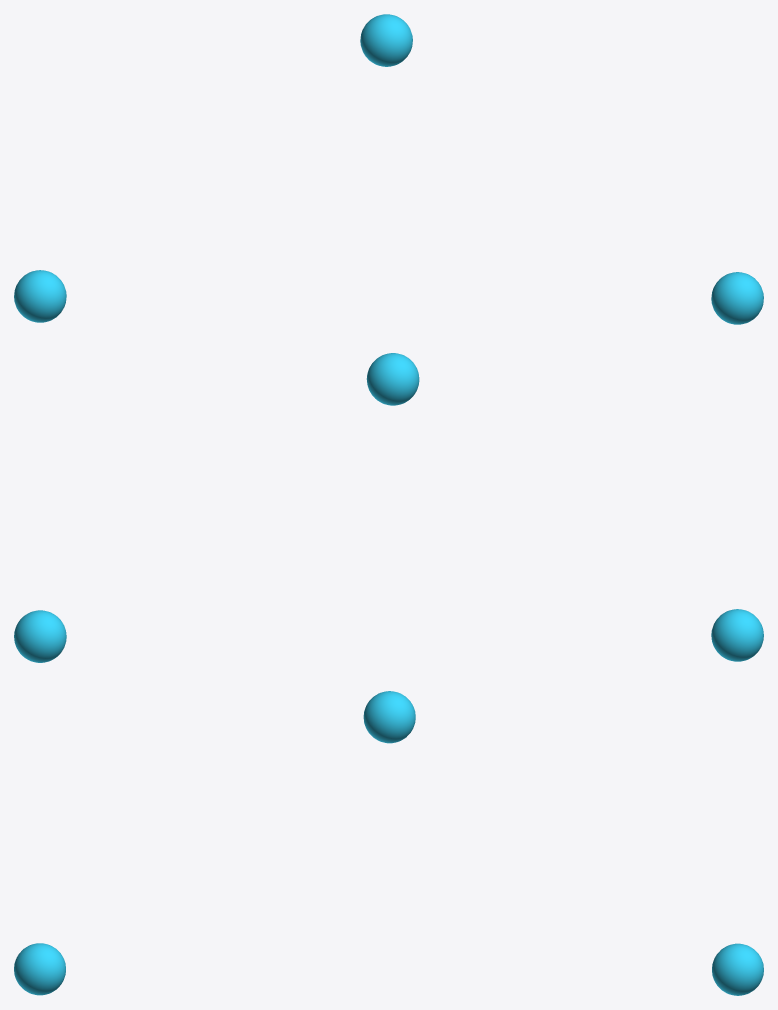
3 views of the same model, one above another, from view 1: azimuth 30°, elevation 25°; view 2: azimuth 150°, elevation 25°; view 3: azimuth 270°, elevation 25° (orthographic).
Visible parts, largest first — view 1: Sphere048; view 2: Sphere048; view 3: Sphere048.
Part boxes in pixels (x1,y1,x2,y2): Sphere048: (14,14,763,324); Sphere048: (14,353,763,662); Sphere048: (14,691,763,995).
Size of the model in its own units: 102 by 8.22 by 118.
